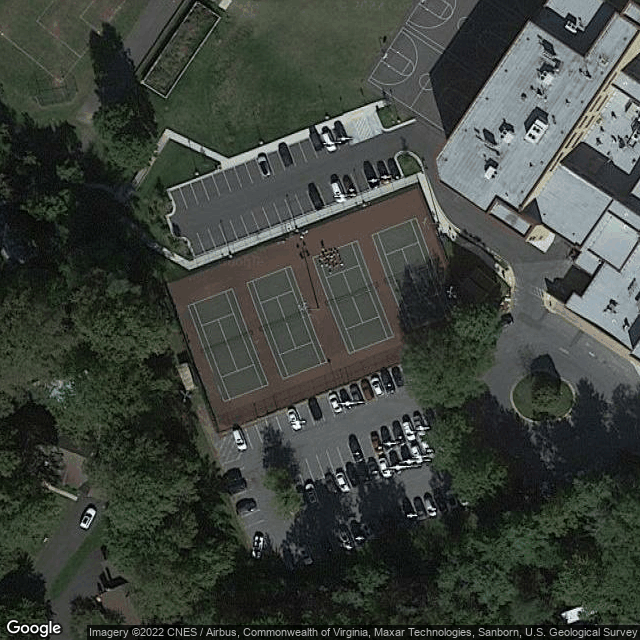Court: (369, 216, 458, 334), (185, 287, 271, 403), (309, 239, 394, 354), (245, 265, 329, 381)
